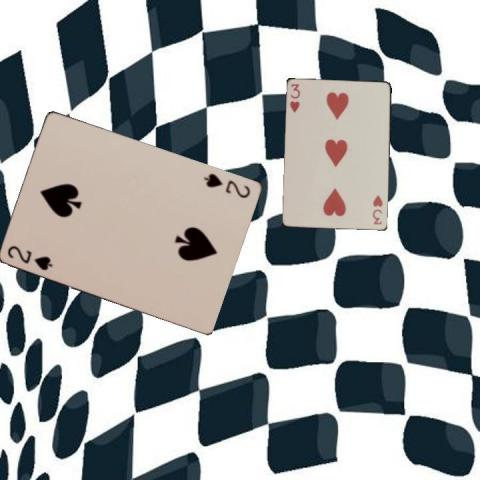2s: (201, 170, 251, 200), (4, 243, 54, 272)
3h: (370, 193, 384, 226), (287, 81, 301, 114)
